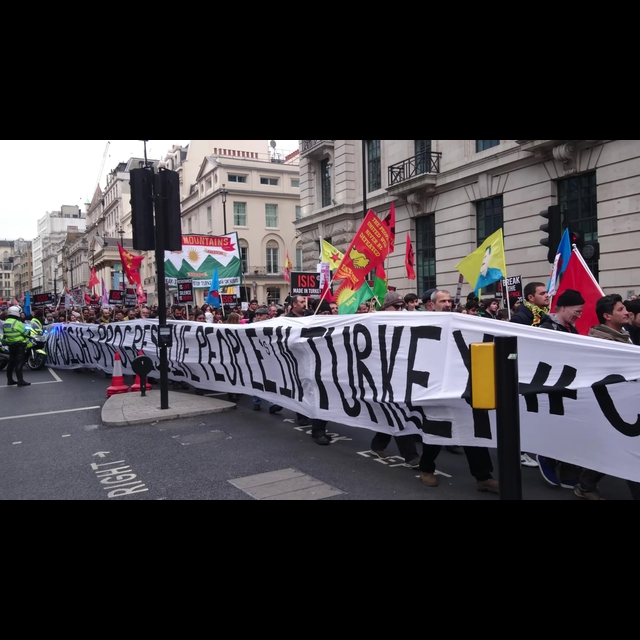PJAK: (334, 286, 362, 310)
